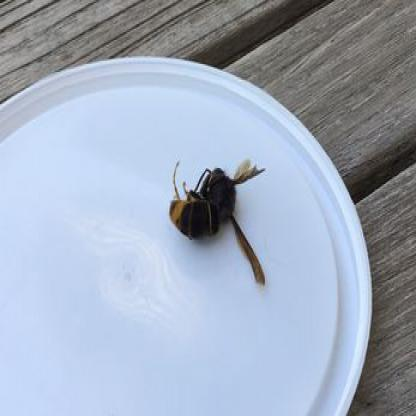Asian Hornet: (162, 143, 271, 288)
